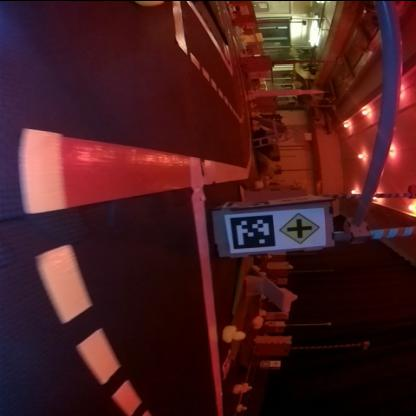Duckie: (224, 324, 247, 340), (233, 383, 247, 392)
Intersection sign: (280, 210, 324, 242)
QR code: (232, 212, 276, 248)
